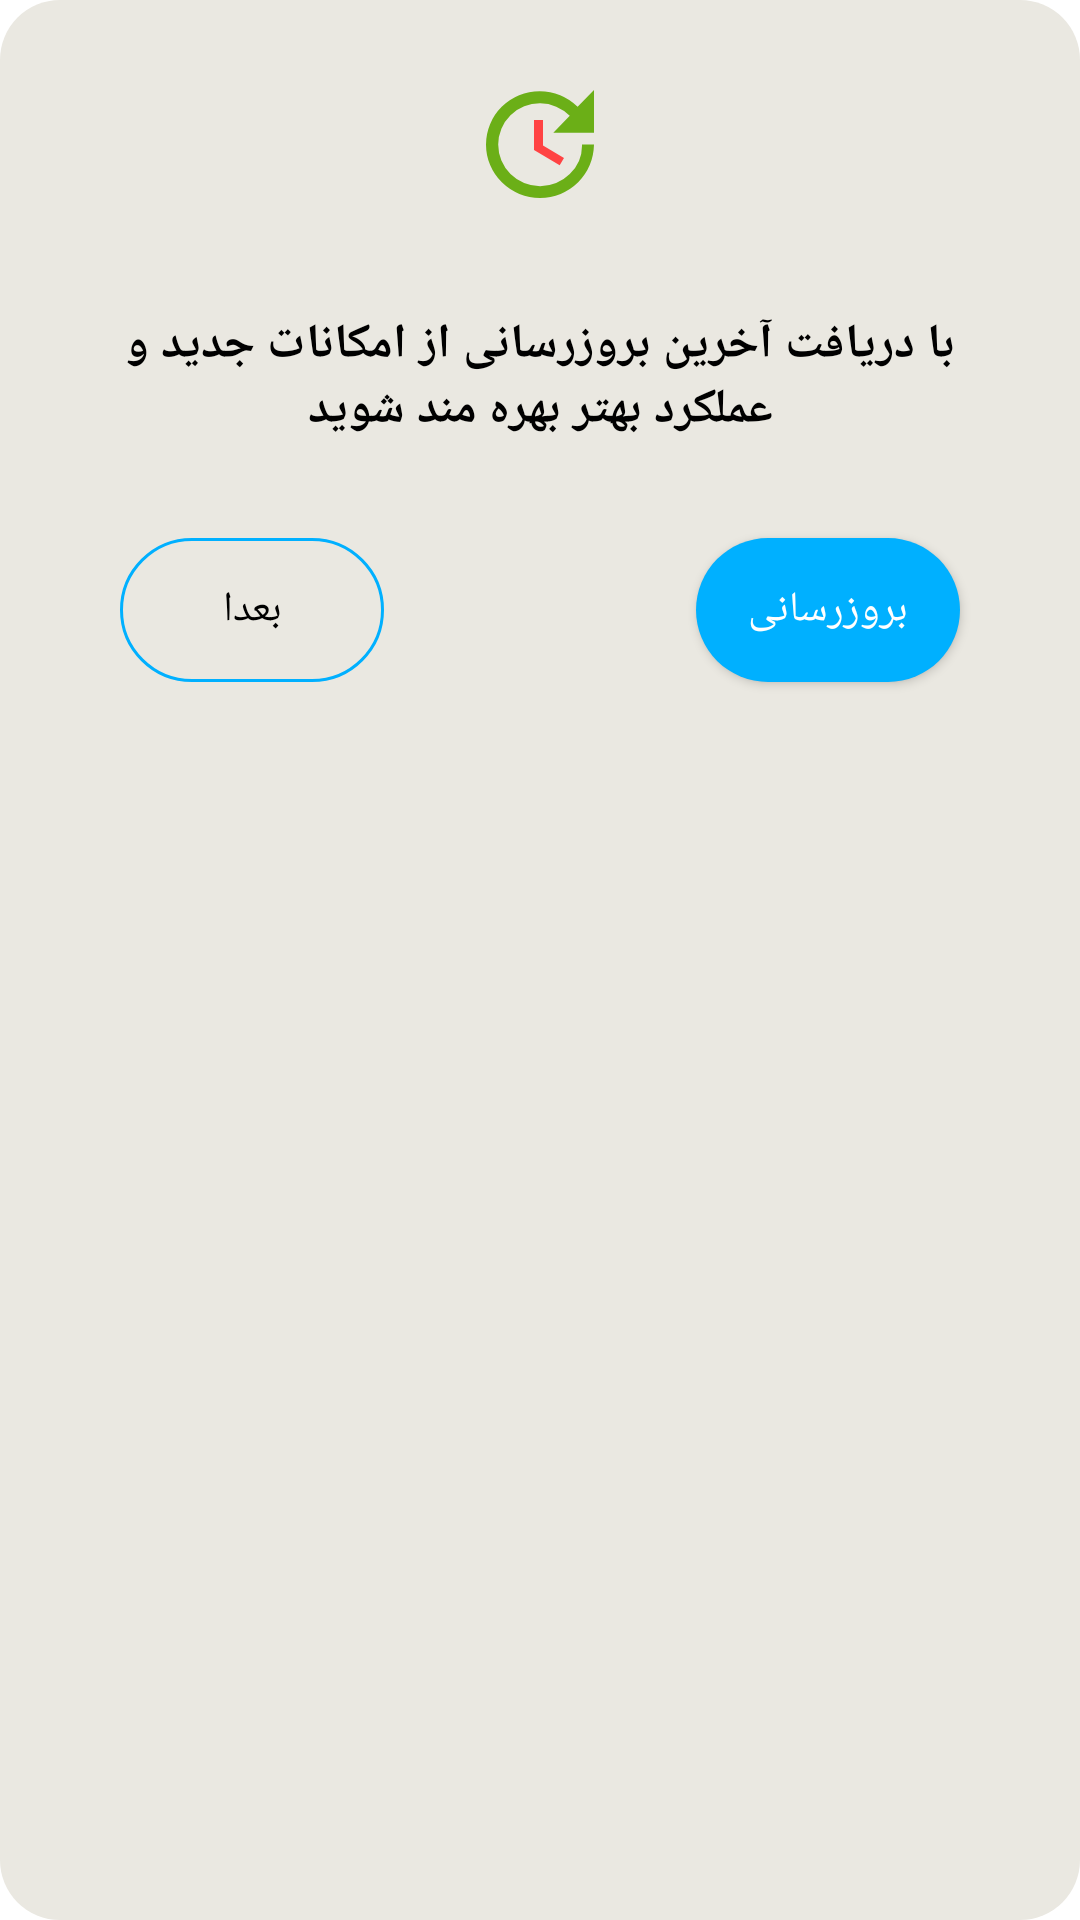

Named icons in this screenshot (1080*1920) and their centers, [x,y]:
update: [540,144]
